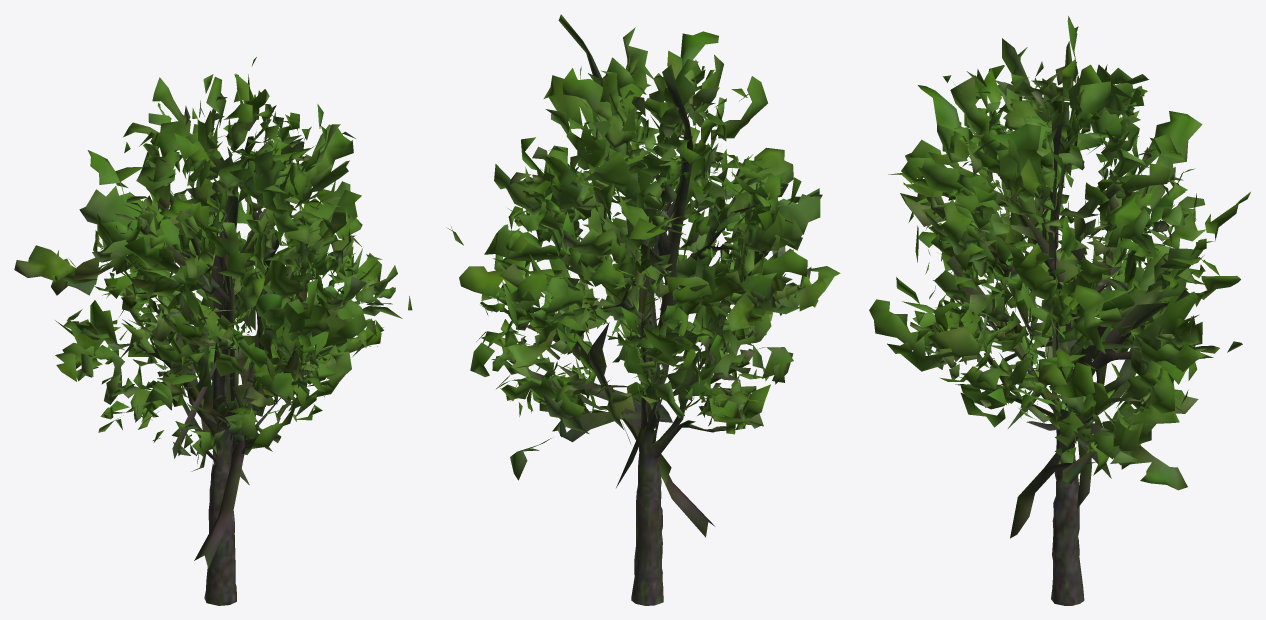
The model's file is tree_09_round_green.glb.
3 views of the same model, side by side, from view 1: azimuth 30°, elevation 25°; view 2: azimuth 150°, elevation 25°; view 3: azimuth 270°, elevation 25° (orthographic). The views are drawn at different scales.
Parts seen in each view (by area): view 1: geometry_0; view 2: geometry_0; view 3: geometry_0.
Part boxes in pixels (x1,y1,x2,y2): geometry_0: (14,57,412,605); geometry_0: (446,14,840,605); geometry_0: (869,16,1250,605).
Size of the model in its own units: 0.6531 by 1 by 0.594.
Materials: 1 (1 with a texture image).
